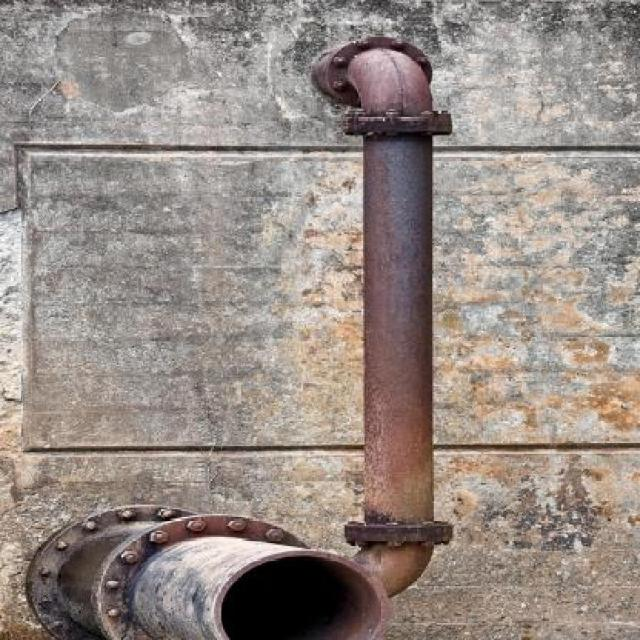corrosion: (33, 42, 461, 635)
